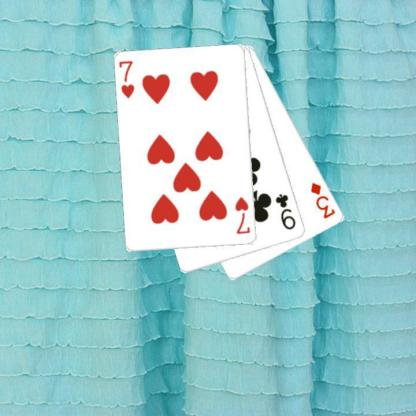3D: (308, 180, 337, 220)
7H: (116, 58, 135, 100), (233, 194, 251, 236)
9C: (272, 191, 298, 231)
